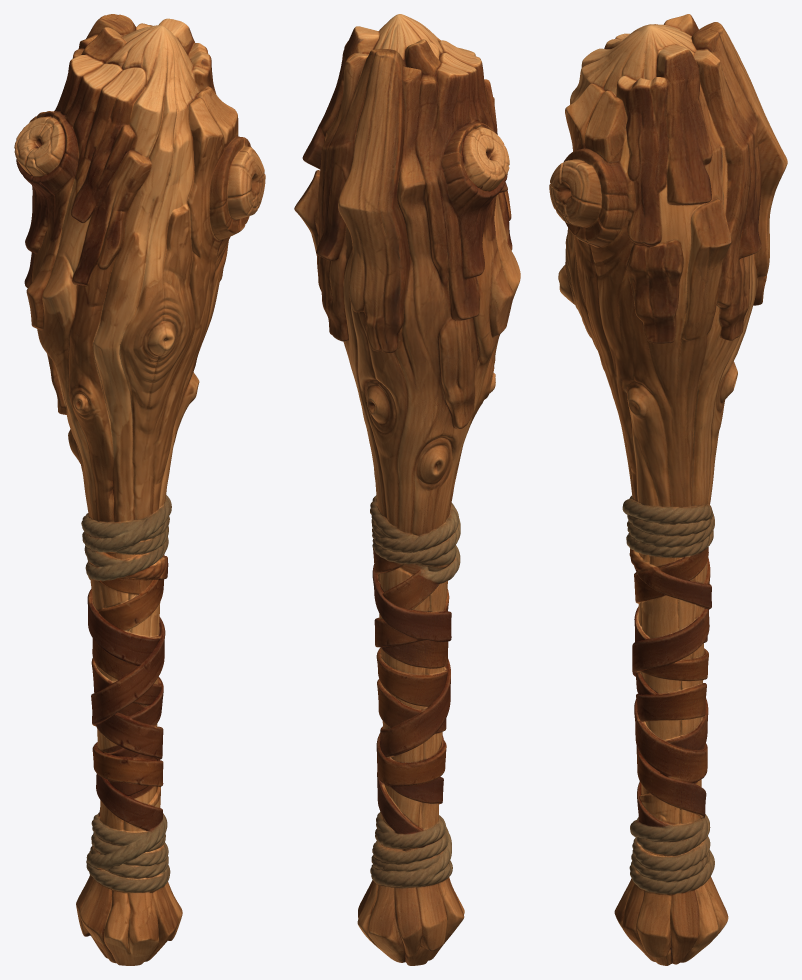
The model's file is Keule.glb.
3 renders of one model, left to right at view 1: azimuth 30°, elevation 25°; view 2: azimuth 150°, elevation 25°; view 3: azimuth 270°, elevation 25°, orthographic.
Size of the model in its own units: 0.4192 by 1.9 by 0.4366.
1 material, 1 textured.
